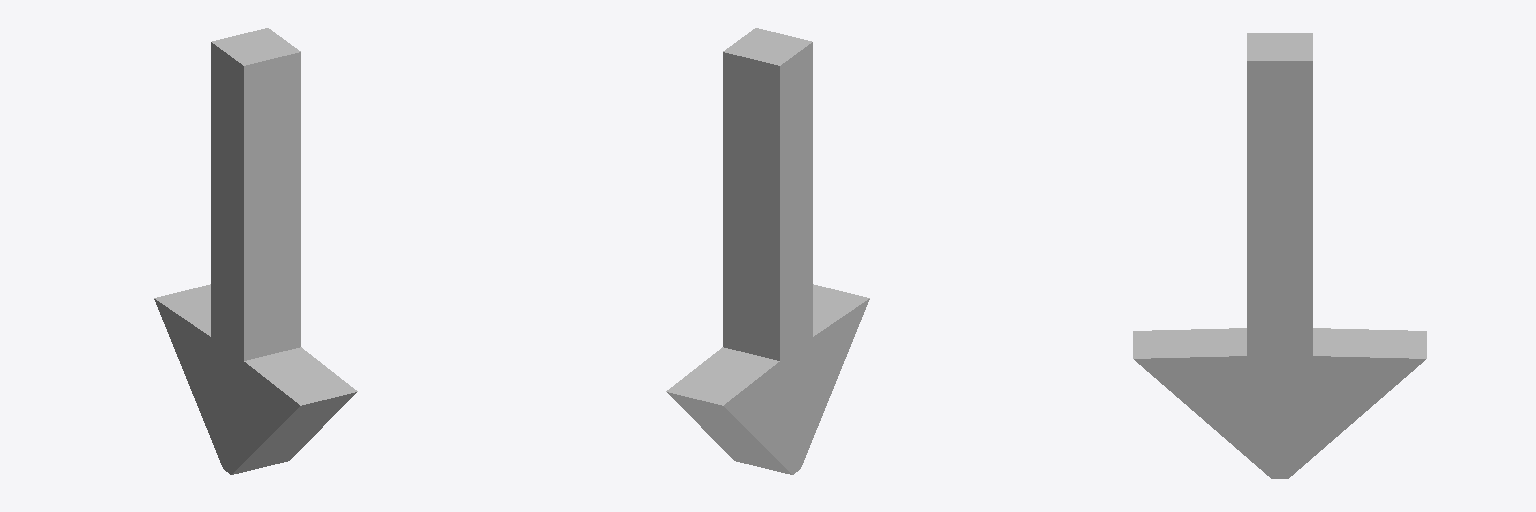
The model's file is BigArrow.obj.
3 views of the same model, side by side, from view 1: azimuth 30°, elevation 25°; view 2: azimuth 150°, elevation 25°; view 3: azimuth 270°, elevation 25° (orthographic).
Visible parts, largest first — view 1: Cube; view 2: Cube; view 3: Cube.
Part boxes in pixels (x1,y1,x2,y2): Cube: (154,28,357,474); Cube: (666,28,869,474); Cube: (1133,33,1426,478).
Size of the model in its own units: 2 by 13.94 by 8.88.